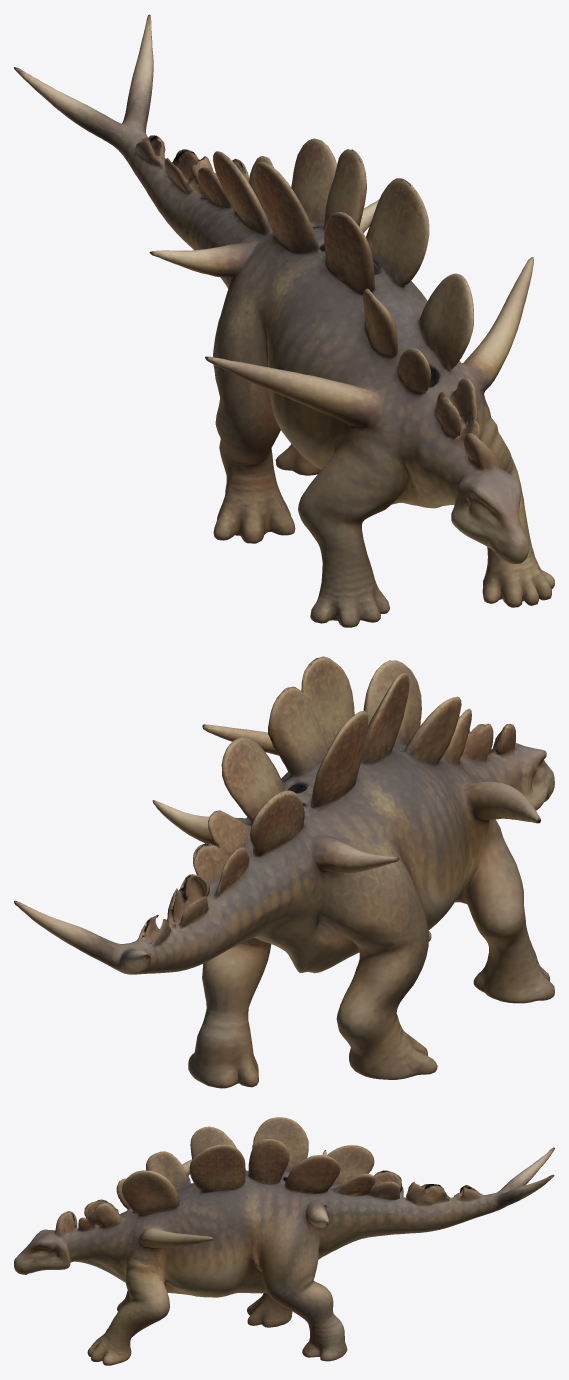
3 views of the same model, one above another, from view 1: azimuth 30°, elevation 25°; view 2: azimuth 150°, elevation 25°; view 3: azimuth 270°, elevation 25° (orthographic). The views are drawn at different scales.
Visible parts, largest first — view 1: world; view 2: world; view 3: world.
Boxes of the visible parts, left/top/right/bottom form: world: left=14, top=14, right=554, bottom=627; world: left=14, top=656, right=554, bottom=1088; world: left=14, top=1117, right=554, bottom=1365.
Bounding box in the file's own units: 3.18 × 3.22 × 7.5.
Materials: 1 (1 with a texture image).
